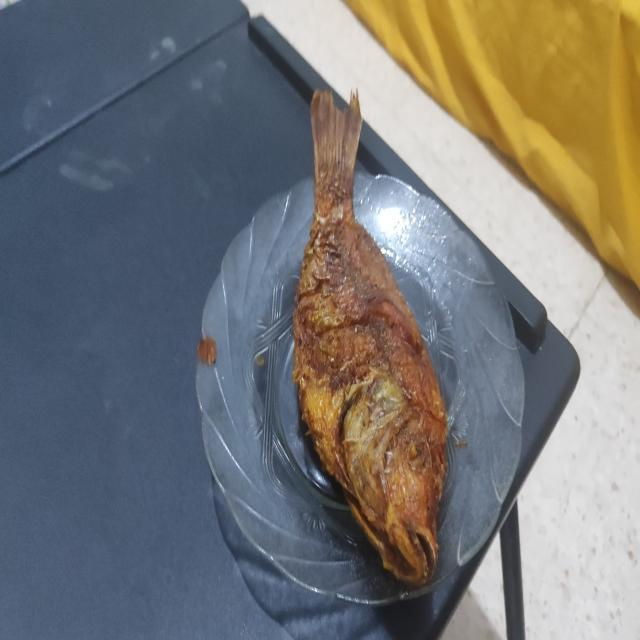ikan_mujair: (293, 90, 448, 584)
